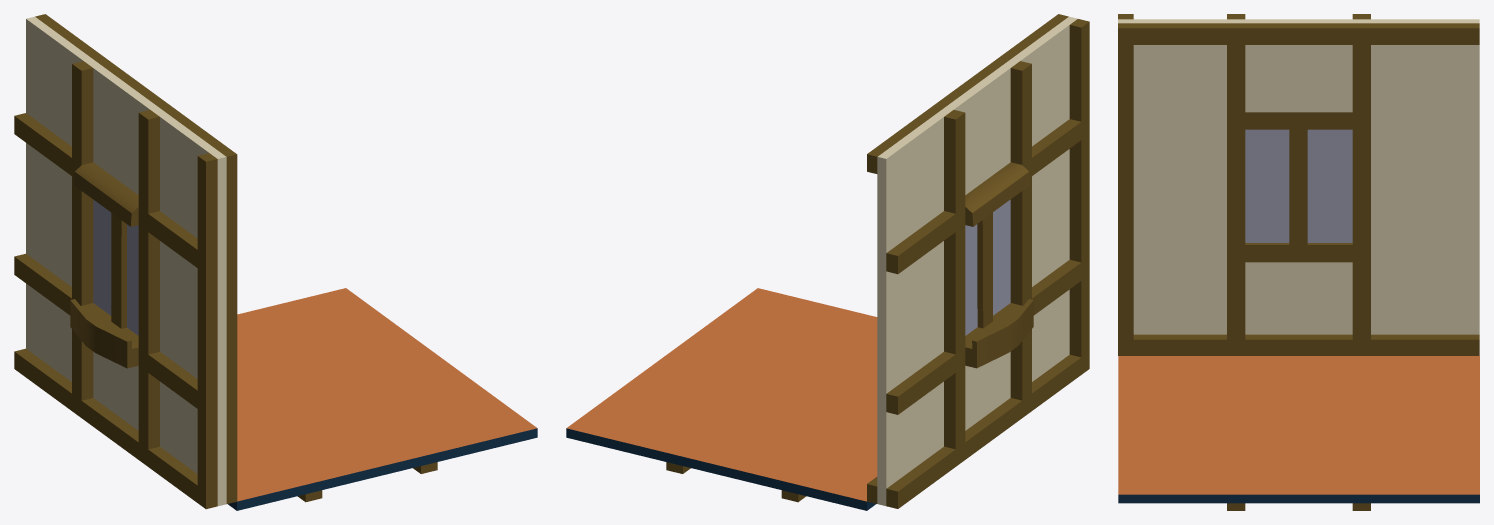
The model's file is FloralWindow.fbx.
3 views of the same model, side by side, from view 1: azimuth 30°, elevation 25°; view 2: azimuth 150°, elevation 25°; view 3: azimuth 270°, elevation 25° (orthographic). The views are drawn at different scales.
Parts seen in each view (by area): view 1: pCube196; view 2: pCube196; view 3: pCube196.
Part boxes in pixels (x1,y1,x2,y2): pCube196: (14, 14, 537, 510); pCube196: (566, 14, 1089, 510); pCube196: (1118, 14, 1479, 510).
Size of the model in its own units: 3.18 by 3.15 by 3.
